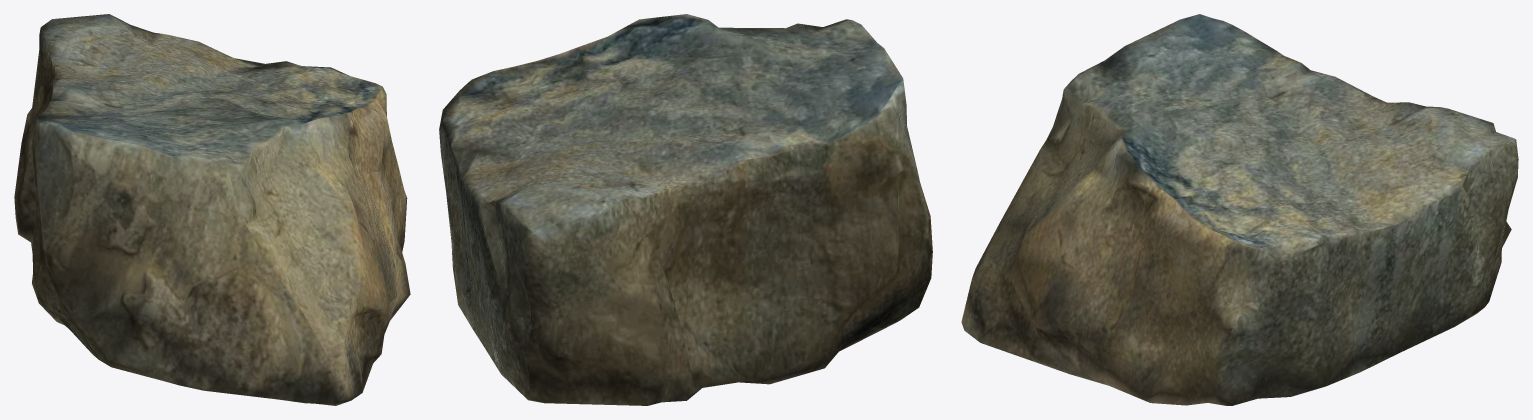
File: namaqualand_boulder_03_lod1.glb
3 renders of one model, left to right at view 1: azimuth 30°, elevation 25°; view 2: azimuth 150°, elevation 25°; view 3: azimuth 270°, elevation 25°, orthographic. The views are drawn at different scales.
Visible parts, largest first — view 1: boulder_03_LOD0; view 2: boulder_03_LOD0; view 3: boulder_03_LOD0.
Boxes of the visible parts, <box> form: boulder_03_LOD0: <box>14,14,410,405</box>; boulder_03_LOD0: <box>439,14,932,405</box>; boulder_03_LOD0: <box>961,14,1518,405</box>.
Size of the model in its own units: 2.39 by 1.47 by 3.06.
Materials: 1 (1 with a texture image).
